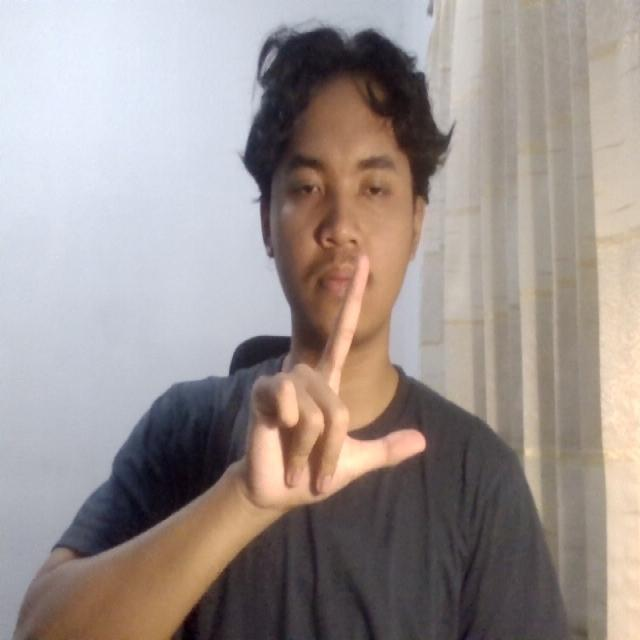I: (227, 251, 449, 529)
